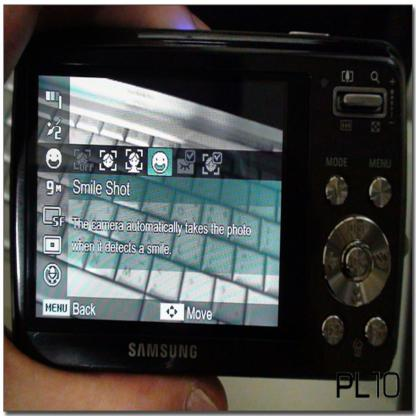Camera: (1, 5, 416, 414)
